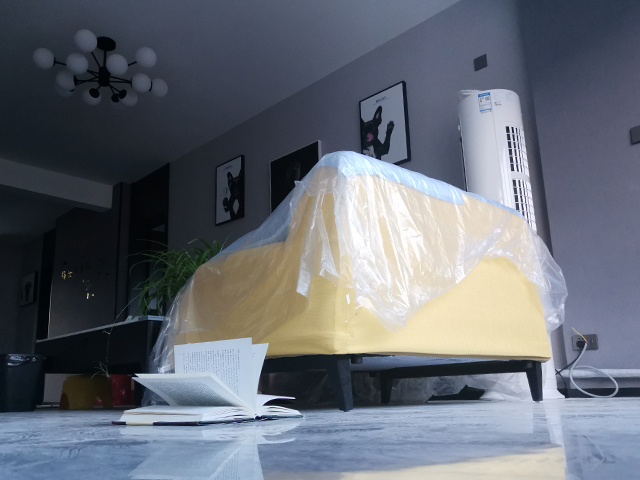book: (108, 336, 305, 428)
sofa: (162, 149, 554, 414)
table: (32, 315, 164, 415)
trashcan: (1, 351, 41, 413)
wire: (553, 325, 621, 400)
